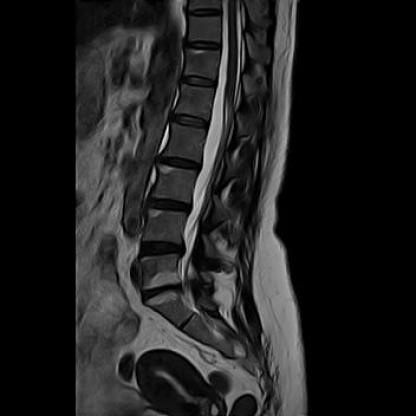Disc Bulgerotation: (137, 238, 187, 259), (139, 282, 184, 300)
